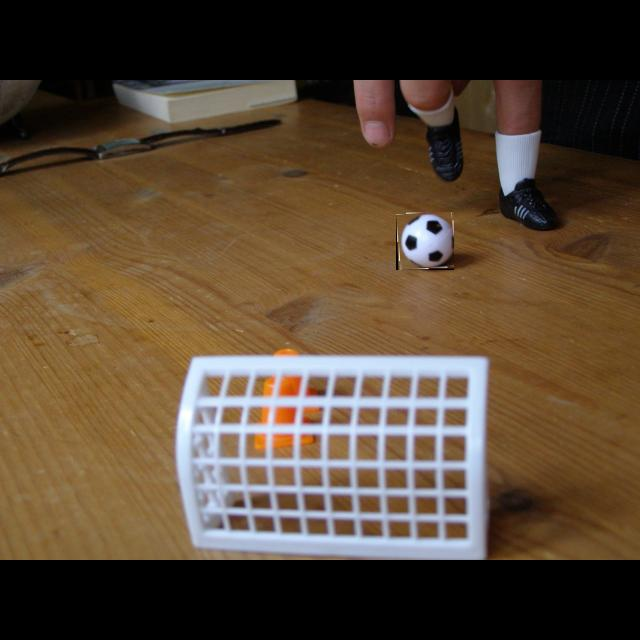Football: (396, 212, 454, 270)
